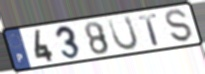3: (55, 24, 85, 62)
4: (34, 28, 55, 63)
8: (84, 21, 111, 56)
S: (164, 8, 194, 44)
T: (137, 12, 162, 47)
U: (106, 14, 140, 52)
